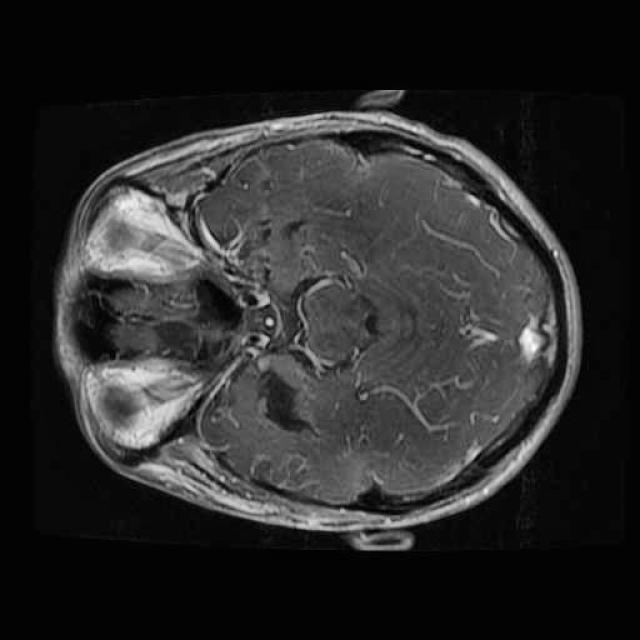Tumor: (230, 337, 350, 459)
